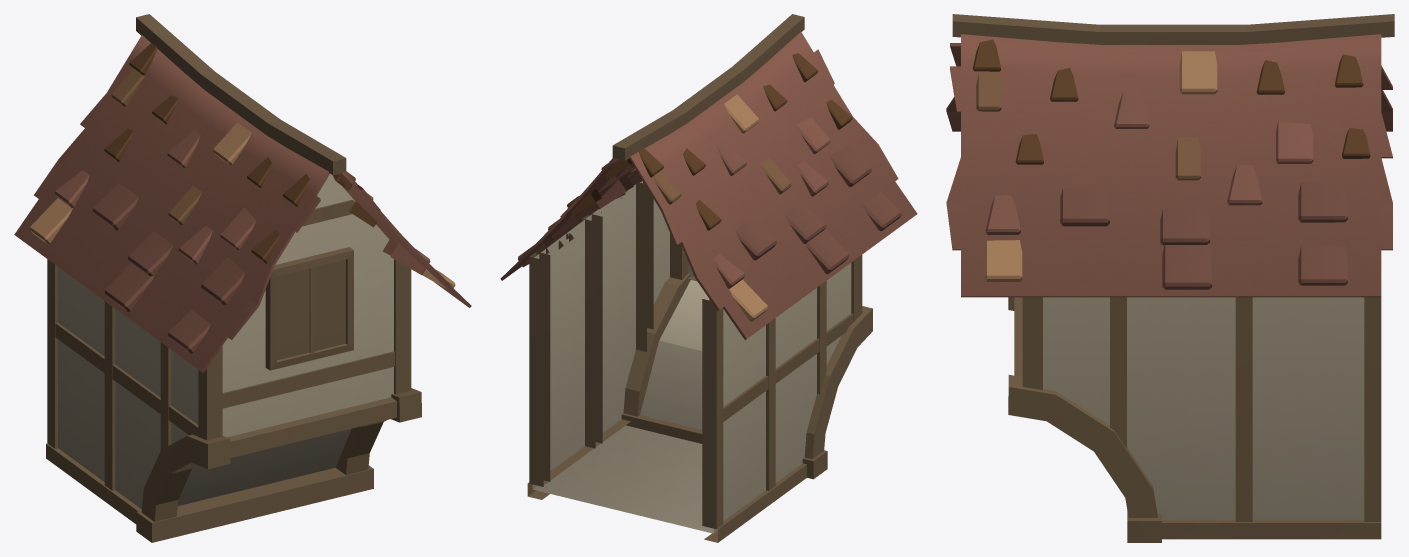
File: ZLP_Build_B_18.FBX
The picture shows the model from 3 angles, left to right: view 1: azimuth 30°, elevation 25°; view 2: azimuth 150°, elevation 25°; view 3: azimuth 270°, elevation 25°; orthographic projection. The views are drawn at different scales.
Parts seen in each view (by area): view 1: ZLP_Build_B_18; view 2: ZLP_Build_B_18; view 3: ZLP_Build_B_18.
Boxes of the visible parts, x1,y1,x2,y2 form: ZLP_Build_B_18: [14, 14, 471, 542]; ZLP_Build_B_18: [500, 14, 917, 542]; ZLP_Build_B_18: [946, 14, 1394, 542].
Bounding box in the file's own units: 292 × 425 × 372.
